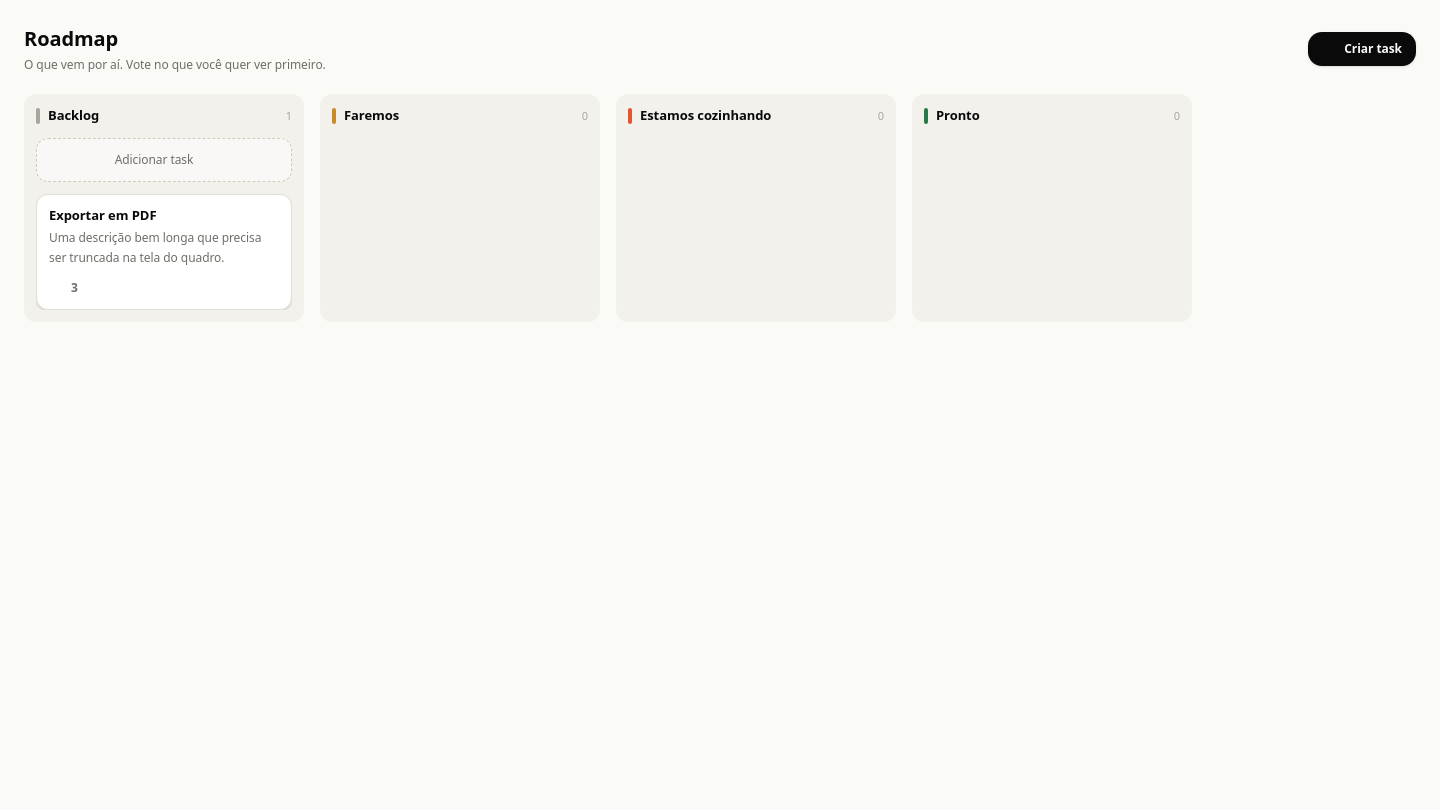
Test: roadmap — popup de detalhe do card › o X e o clique fora também fecham
Click the button with test id "abrir-detalhe-c1".
click(164, 215)  # box [49,206,279,224]
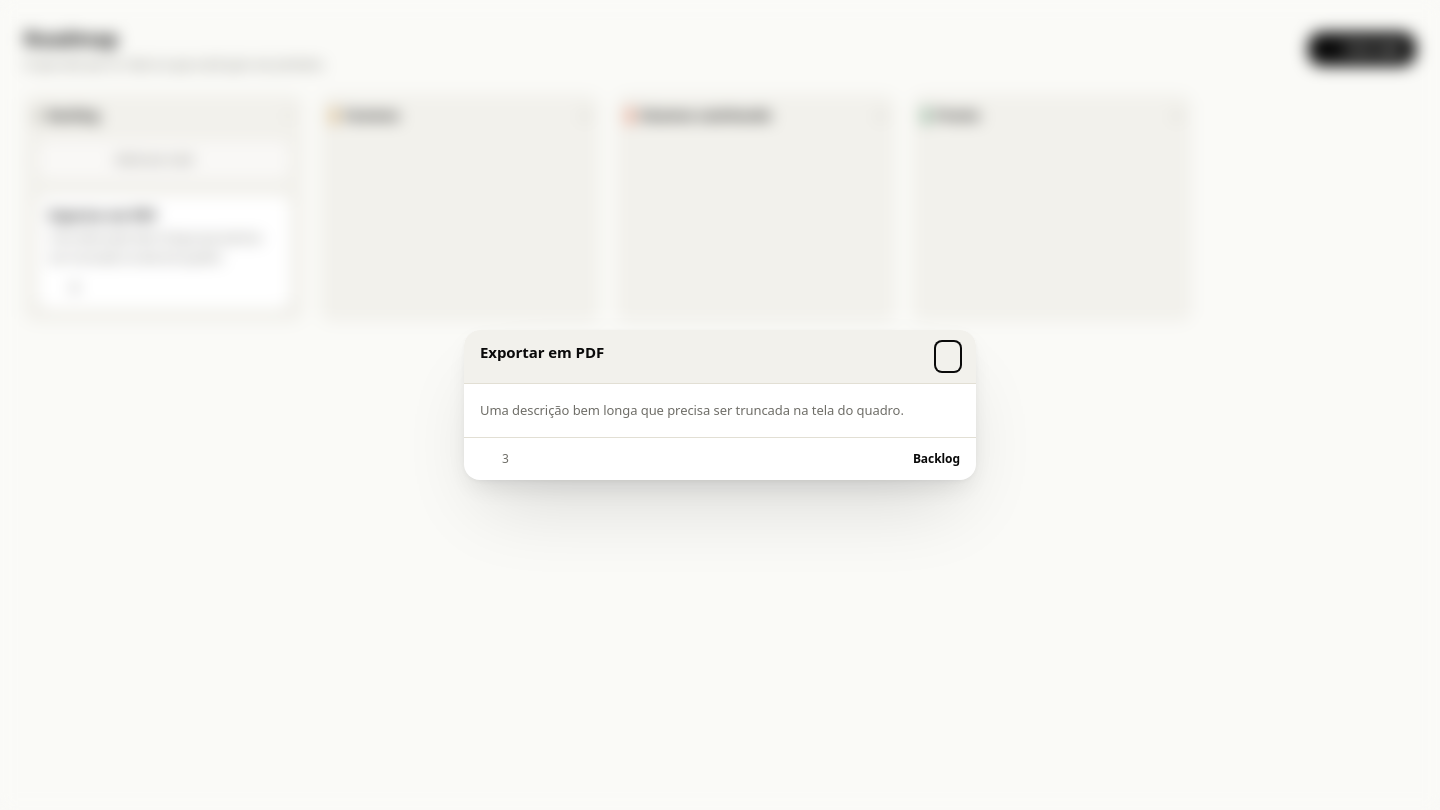
Click the button with test id "fechar-detalhe".
click(948, 356)  # box [936,342,960,371]
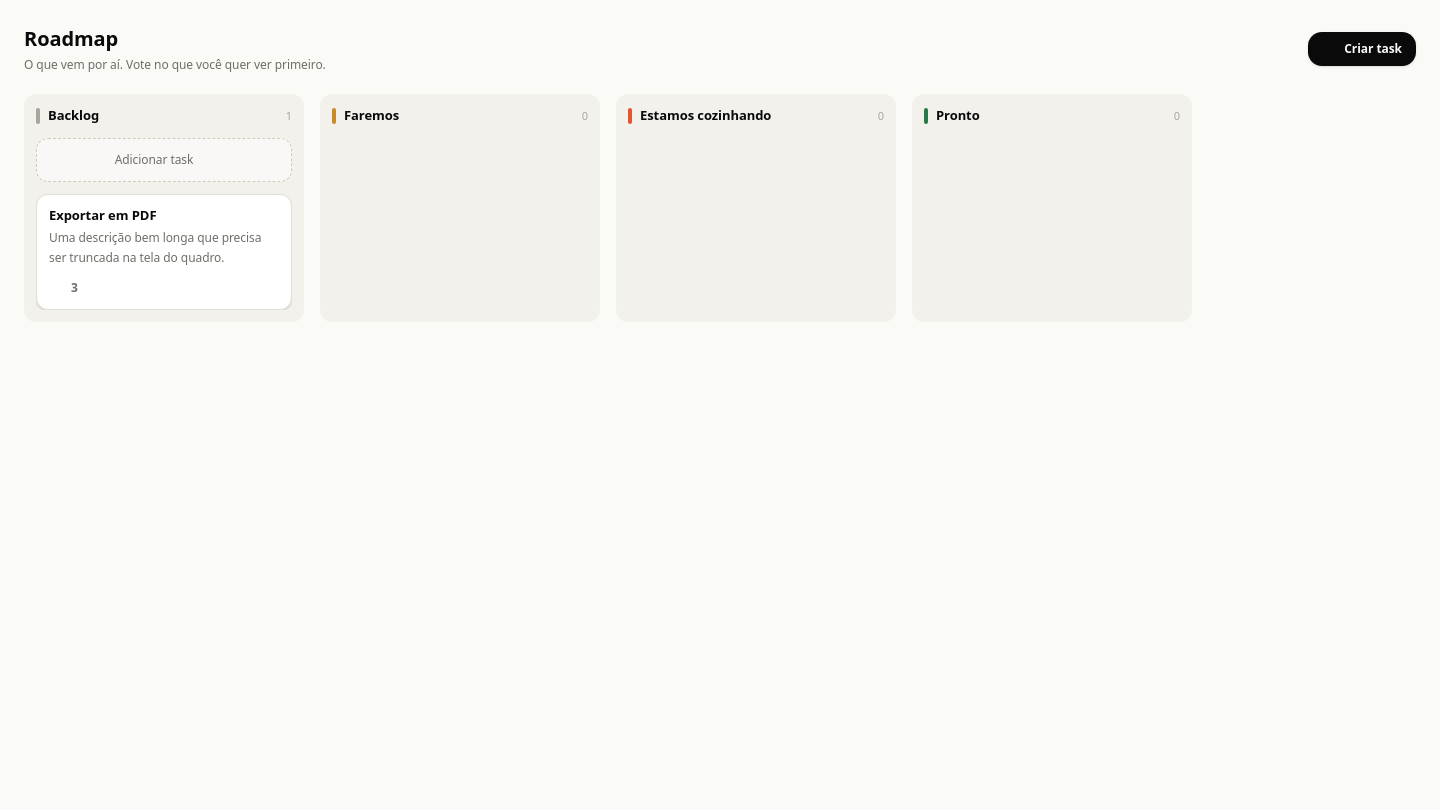
Now the dialog with test id "detalhe-popup" is gone
Click the button with test id "abrir-detalhe-c1".
click(164, 215)  # box [49,206,279,224]
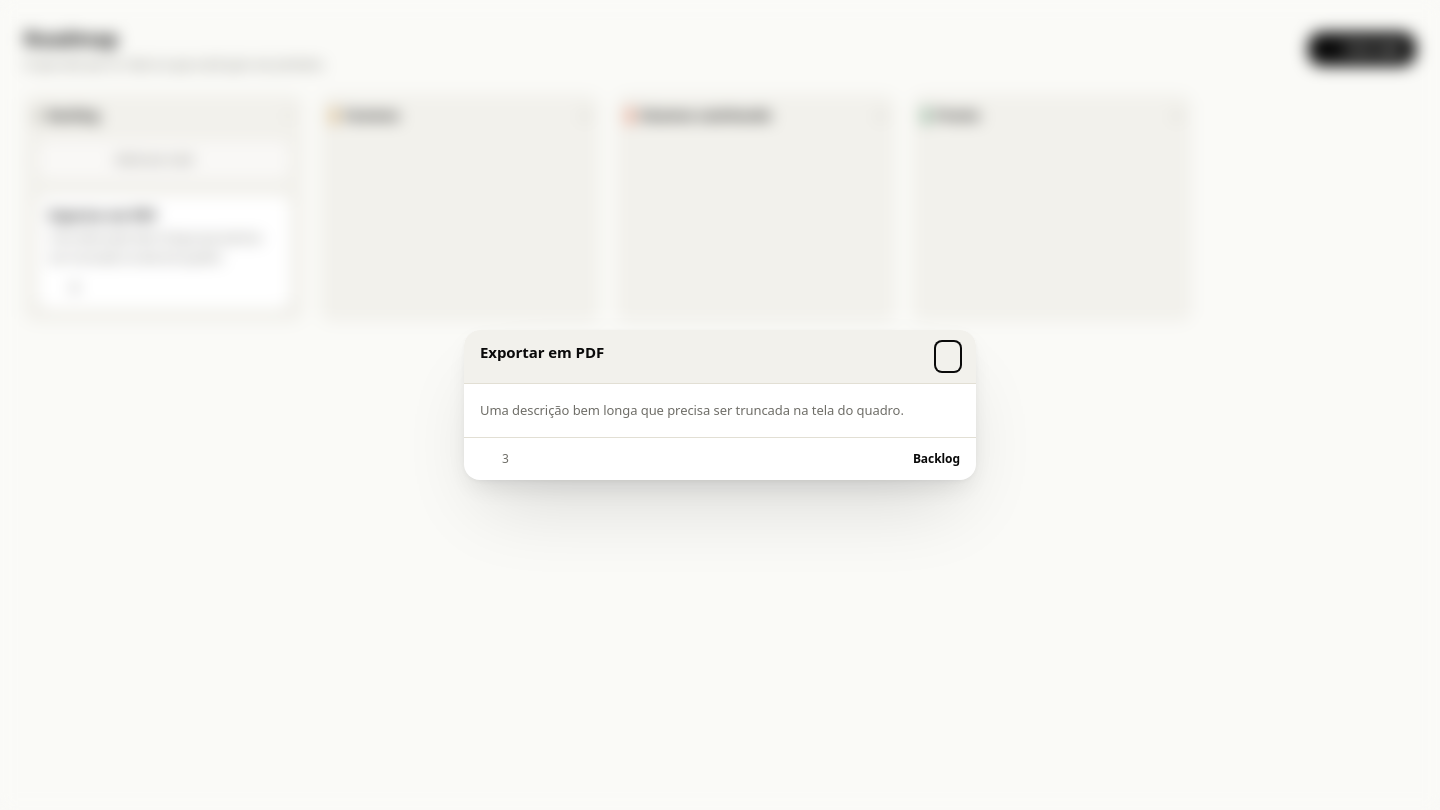
Click the dialog with test id "detalhe-popup".
click(720, 405)  # box [464,330,976,480]
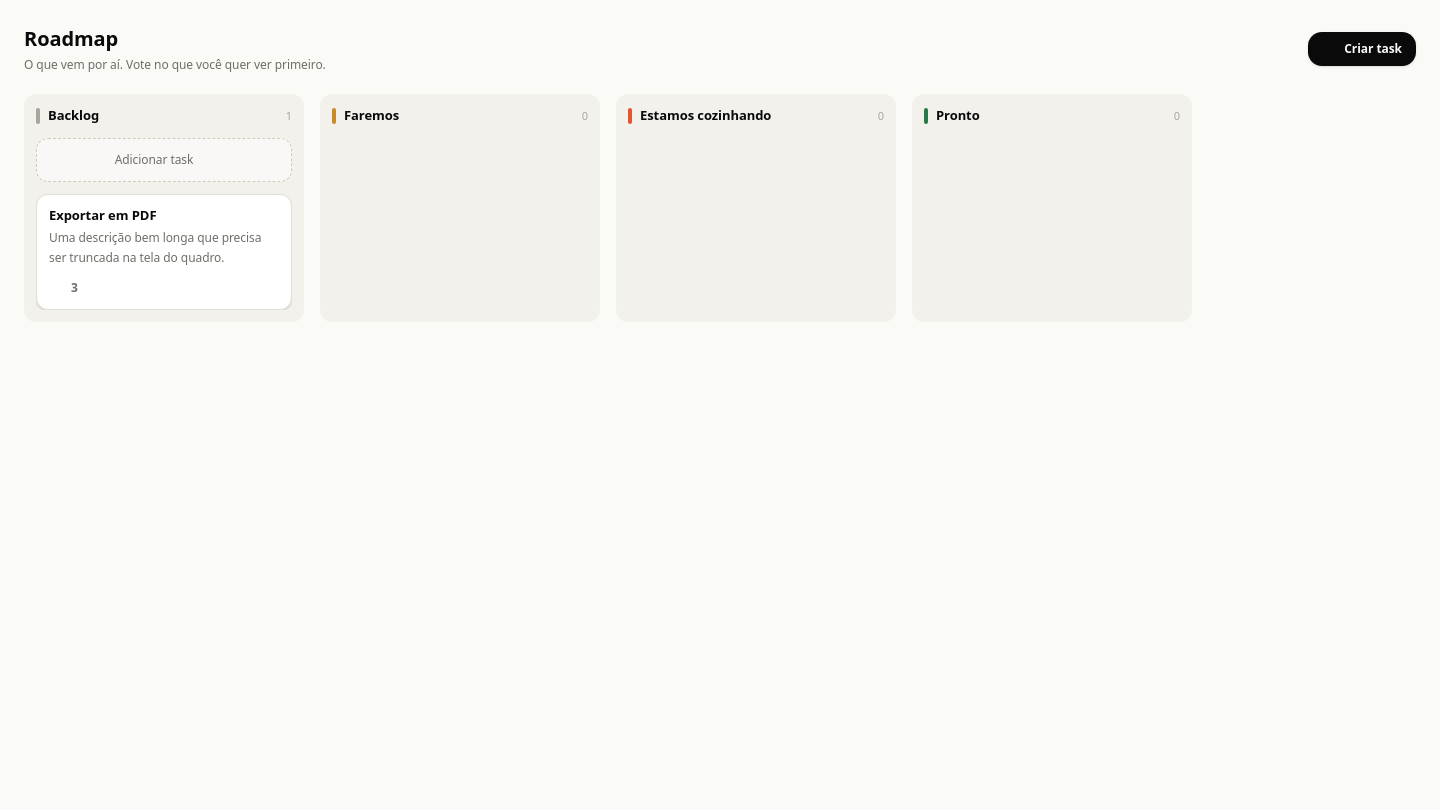
Now the dialog with test id "detalhe-popup" is gone
